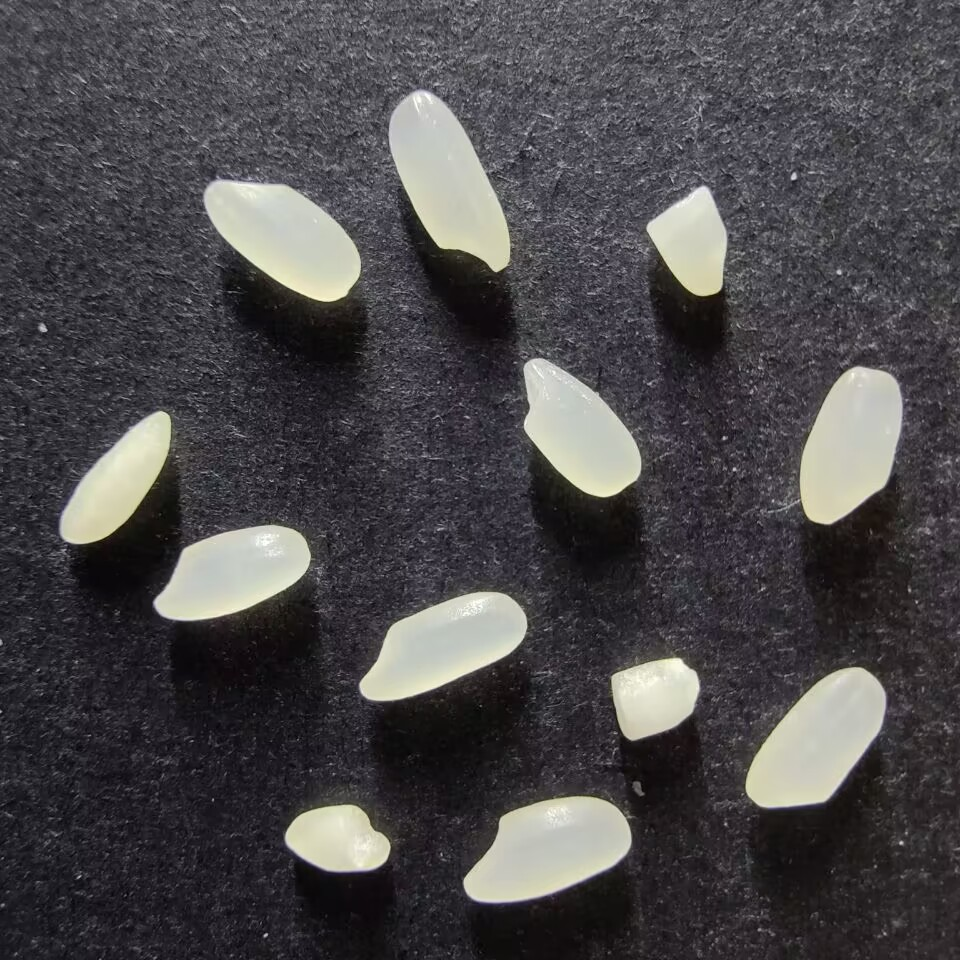broken: (645, 184, 728, 298), (610, 657, 700, 741), (283, 804, 391, 873)
rice: (387, 90, 512, 274), (743, 666, 886, 808), (202, 178, 362, 302), (358, 590, 528, 702), (461, 796, 632, 904), (521, 357, 641, 498), (798, 366, 903, 525), (58, 408, 172, 545), (152, 524, 310, 622)
